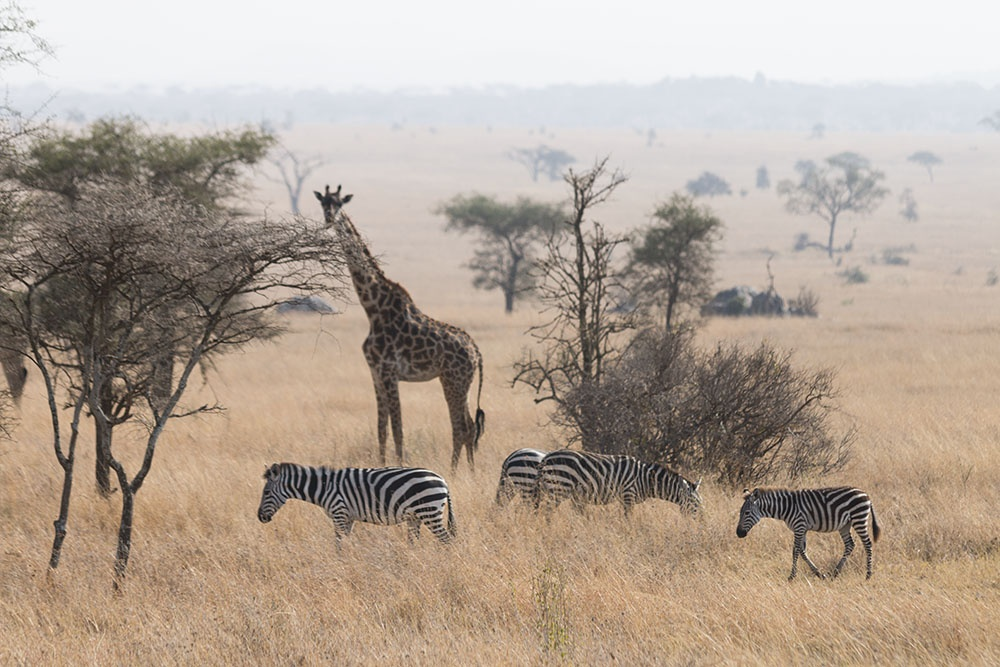giraffe: (308, 179, 496, 486)
zebra: (250, 460, 471, 563), (733, 482, 886, 591), (537, 448, 711, 543), (488, 446, 617, 529)
